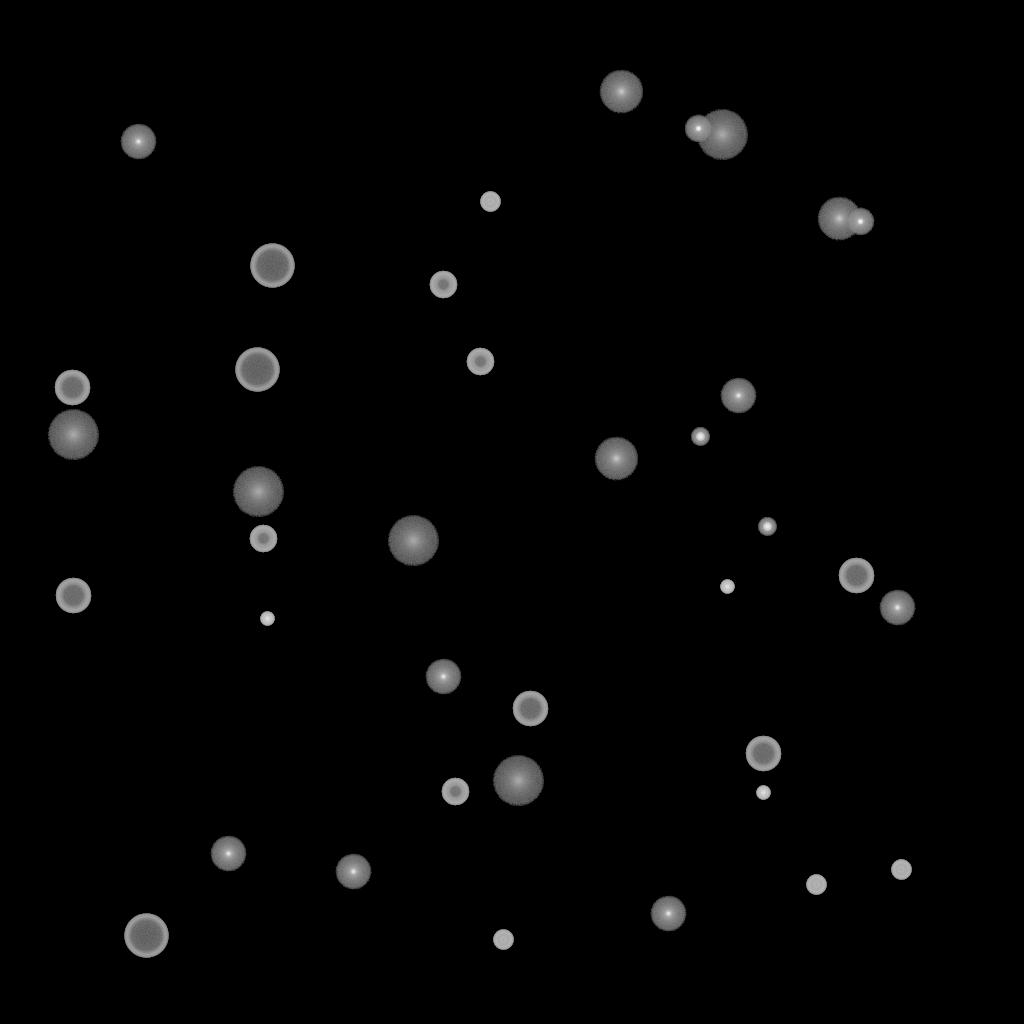depth:-10: (846, 208, 874, 236), (684, 115, 712, 143)
depth:-20: (691, 428, 709, 446), (758, 518, 776, 536)
depth:-30: (756, 786, 770, 800), (720, 580, 734, 594), (260, 612, 274, 626)
depth:-40: (806, 875, 826, 895), (480, 192, 500, 212), (891, 860, 911, 880), (493, 930, 513, 950)
depth:-50: (466, 348, 494, 376), (441, 778, 469, 806), (249, 525, 277, 553), (429, 271, 457, 299)
depth:-60: (838, 558, 874, 594), (54, 370, 90, 406), (55, 578, 91, 614), (512, 691, 548, 727), (745, 736, 781, 772)
depth:-70: (124, 914, 168, 958), (250, 244, 294, 288), (235, 348, 279, 392)
depth:0: (650, 896, 686, 932), (720, 378, 756, 414), (425, 659, 461, 695), (335, 854, 371, 890), (879, 590, 915, 626), (120, 124, 156, 160), (210, 836, 246, 872)
depth:10: (594, 437, 638, 481), (599, 70, 643, 114), (817, 197, 861, 241)
depth:20: (492, 756, 544, 806), (387, 516, 439, 566), (696, 110, 748, 160), (232, 467, 284, 517), (47, 410, 99, 460)
